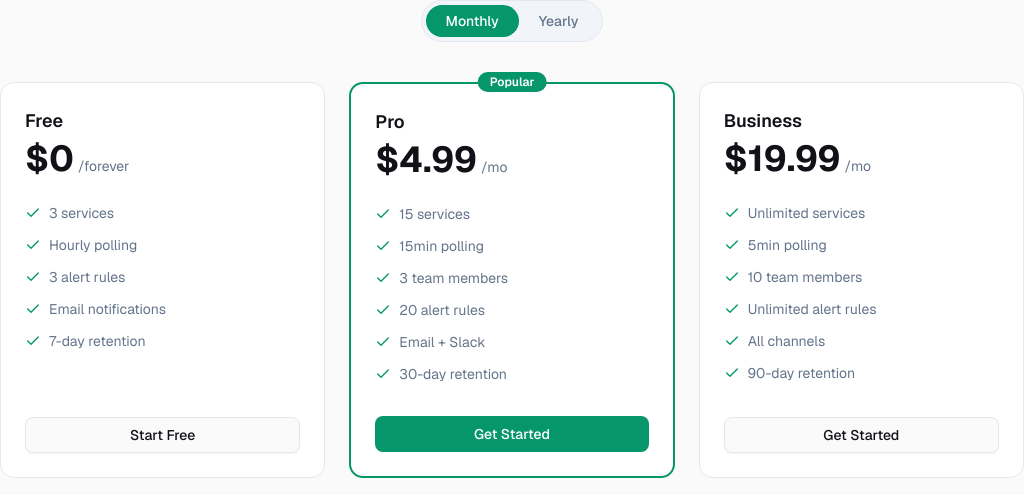
Test: PricingSection › switches back to monthly when Monthly is clicked after Yearly
The width and height of the screenshot is (1024, 495).
Click the button "Yearly": (559, 21) [519,5,598,37]
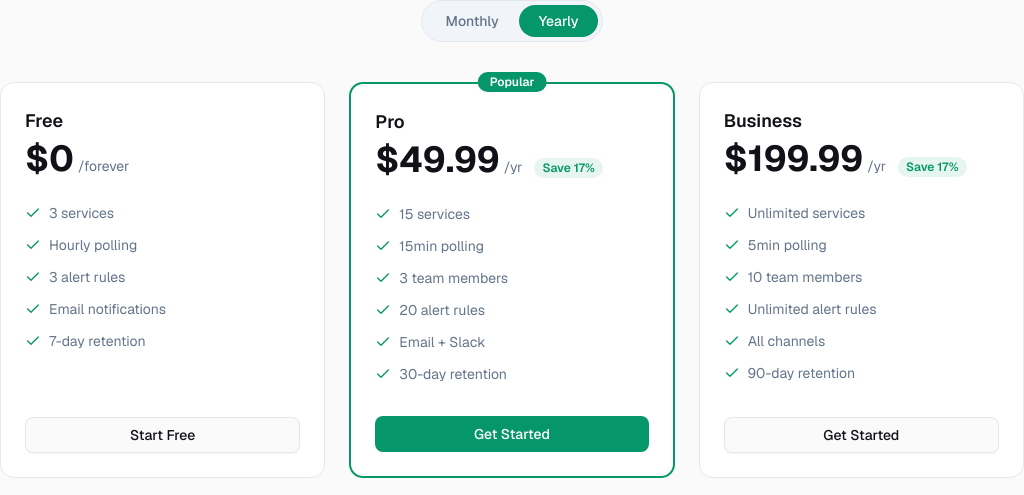
Result: the text "$49.99" is shown at [375,140,500,180]
Click the button "Monthly": (472, 21) [426,5,519,37]
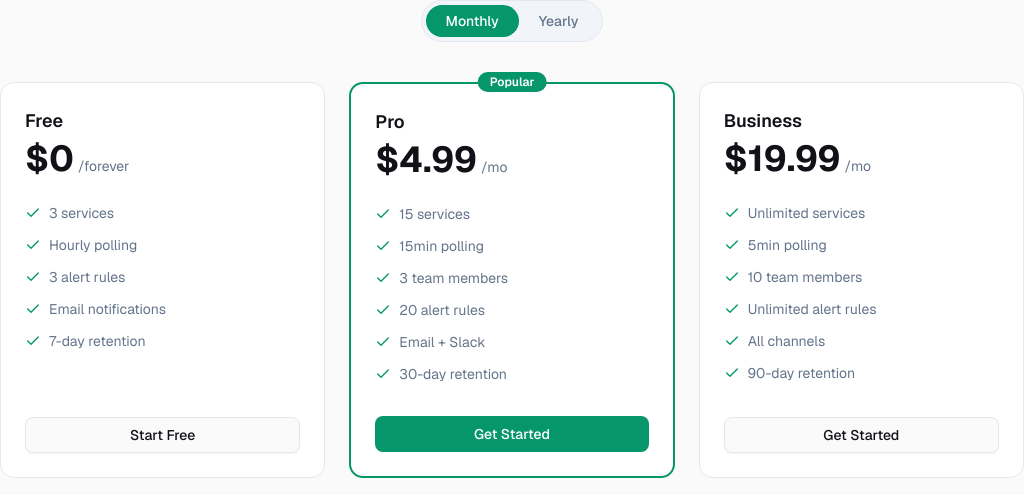
Result: the text "$4.99" is shown at [375,140,477,180]
